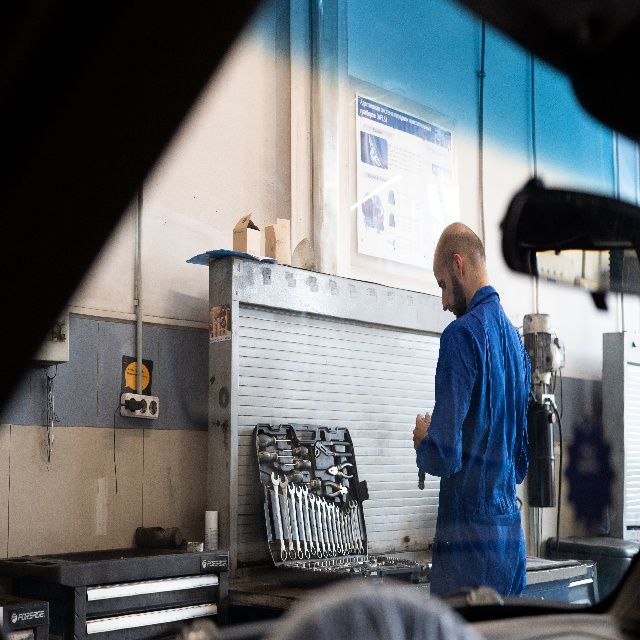Sin_guantes: (413, 411, 431, 451)
